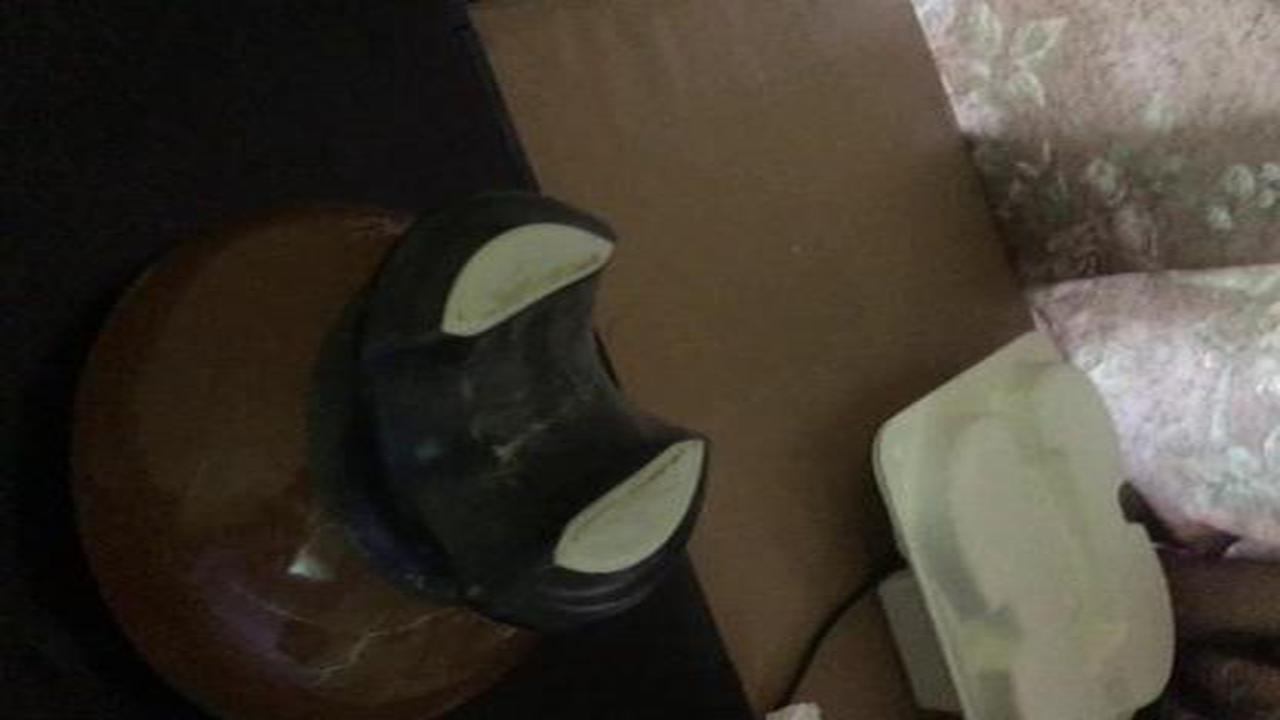insulator_pin: (50, 187, 733, 708)
